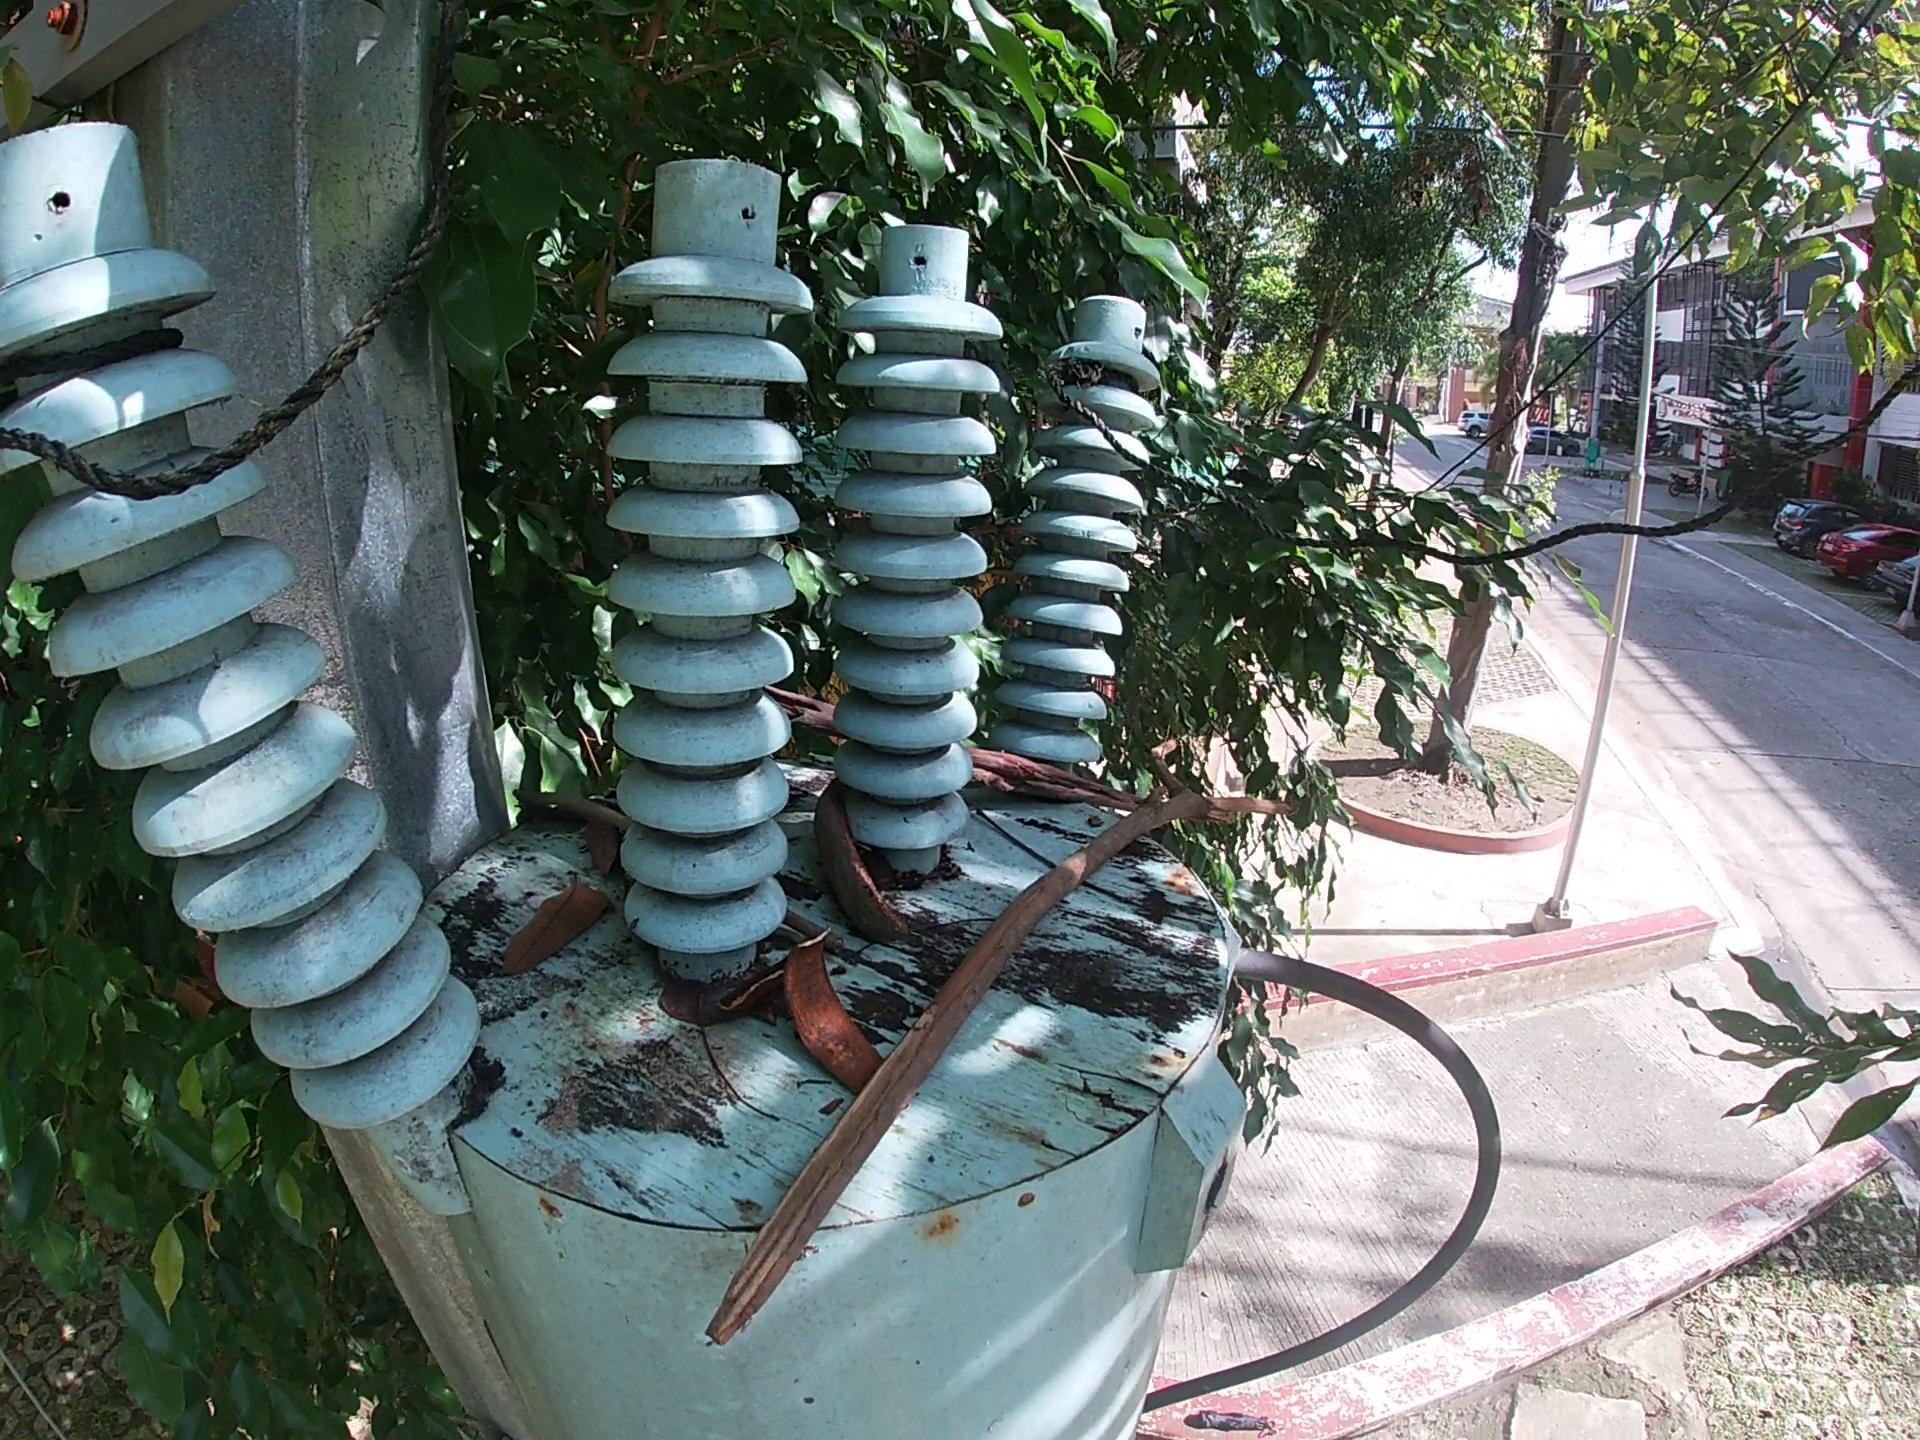leaf: (491, 868, 615, 980), (652, 973, 735, 1032), (584, 808, 633, 880)
mahogany fruit: (776, 923, 893, 1106), (807, 771, 912, 942)
tree branch: (698, 731, 1309, 1351), (757, 682, 1152, 814), (505, 785, 641, 832), (785, 911, 848, 957)
